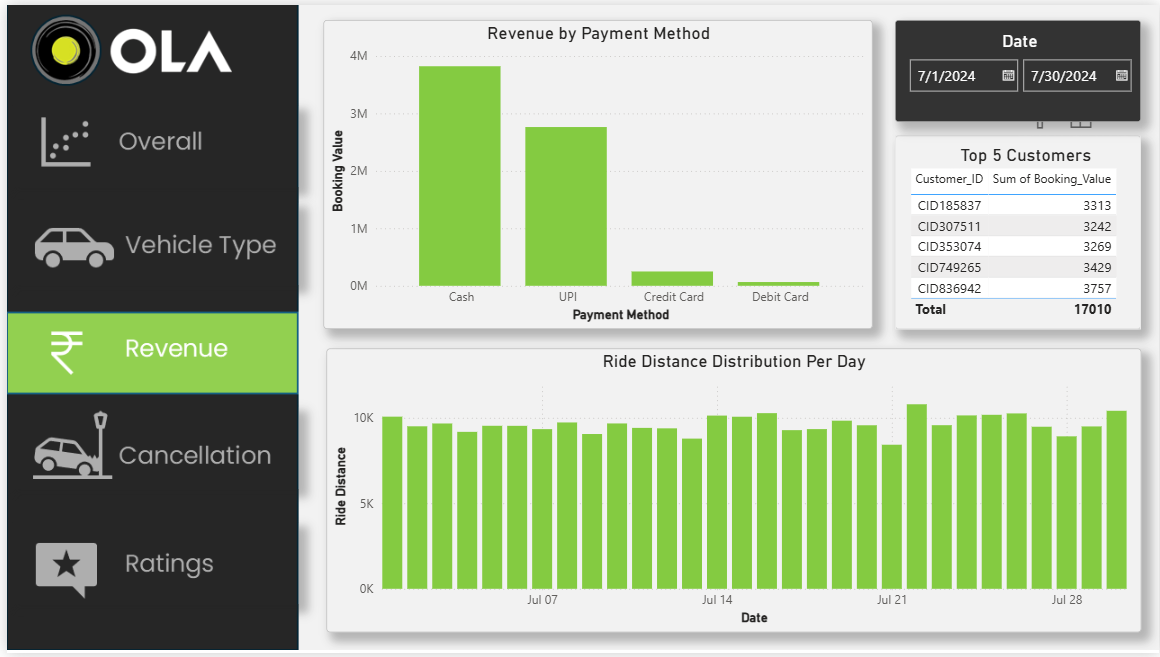

This screenshot's page, from the dashboard's own definition file:
{"tool":"powerbi","page":{"name":"Revenue","canvas":[1280,720],"ordinal":2},"visuals":[{"type":"actionButton","box":[0,111.3,324.5,90.7],"z":0},{"type":"actionButton","box":[0,447,324.5,90.7],"z":1000},{"type":"actionButton","box":[0,575.8,324.5,90.7],"z":2000},{"type":"actionButton","box":[0,219.5,324.5,90.7],"z":3000},{"type":"columnChart","title":"Revenue by Payment Method","fields":{"Category":["Bookingscsv.Payment_Method"],"Y":["Sum(Bookingscsv.Booking_Value)"]},"box":[351.7,16.7,610,343.3],"z":4000},{"type":"columnChart","title":"Ride Distance Distribution Per Day","fields":{"Y":["Sum(Bookingscsv.Ride_Distance)"],"Category":["Bookingscsv.Date"]},"box":[355,381.7,905,315],"z":5000},{"type":"tableEx","title":"Top 5 Customers","fields":{"Values":["Bookingscsv.Customer_ID","Sum(Bookingscsv.Booking_Value)"]},"box":[986.7,145,273.3,215],"z":6000},{"type":"slicer","title":"Date","fields":{"Values":["Bookingscsv.Date"]},"box":[986.7,16.7,273.3,113.3],"z":7000}]}

Visuals, with their boxes in screenshot pixels (x1, y1, x2, y2), scaled from the page's 1280x720 canvas onto the 1160x657 screenshot:
actionButton: BBox(0, 102, 294, 184)
actionButton: BBox(0, 408, 294, 491)
actionButton: BBox(0, 525, 294, 608)
actionButton: BBox(0, 200, 294, 283)
"Revenue by Payment Method" columnChart: BBox(319, 15, 872, 328)
"Ride Distance Distribution Per Day" columnChart: BBox(322, 348, 1142, 636)
"Top 5 Customers" tableEx: BBox(894, 132, 1142, 328)
"Date" slicer: BBox(894, 15, 1142, 119)
